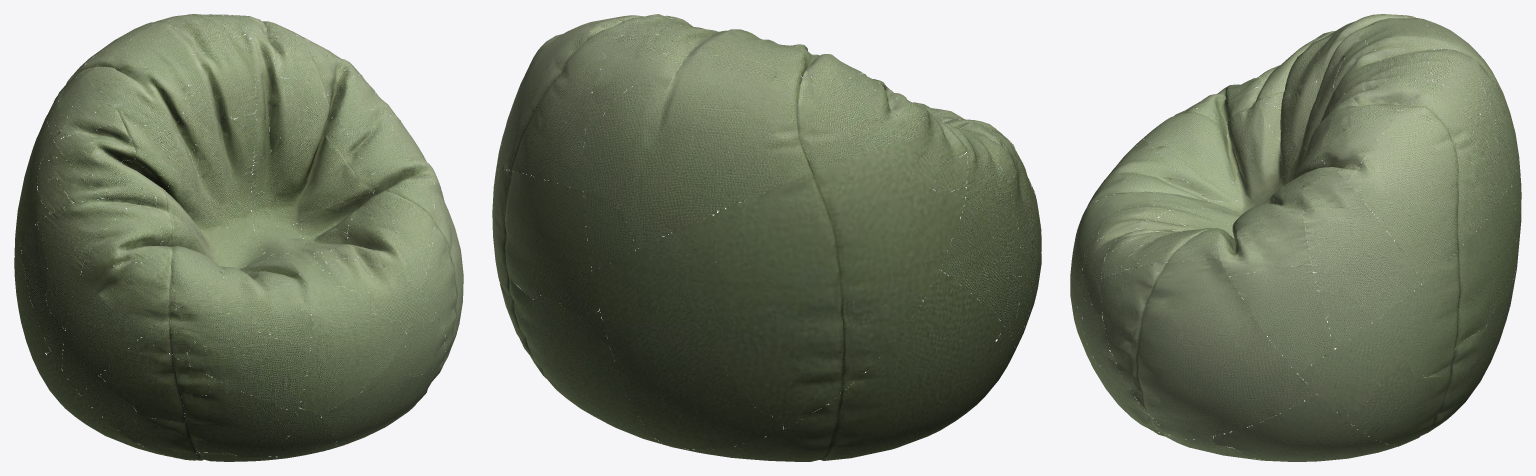
The model's file is beanbag.glb.
3 renders of one model, left to right at view 1: azimuth 30°, elevation 25°; view 2: azimuth 150°, elevation 25°; view 3: azimuth 270°, elevation 25°, orthographic. The views are drawn at different scales.
Visible parts, largest first — view 1: tripo_node_898cca3a-b330-4dd3-bc0e-1b13b1ae4dba; view 2: tripo_node_898cca3a-b330-4dd3-bc0e-1b13b1ae4dba; view 3: tripo_node_898cca3a-b330-4dd3-bc0e-1b13b1ae4dba.
Boxes of the visible parts, bbox=[...] form: tripo_node_898cca3a-b330-4dd3-bc0e-1b13b1ae4dba: bbox=[14, 14, 463, 461]; tripo_node_898cca3a-b330-4dd3-bc0e-1b13b1ae4dba: bbox=[492, 14, 1041, 461]; tripo_node_898cca3a-b330-4dd3-bc0e-1b13b1ae4dba: bbox=[1070, 14, 1521, 461].
Size of the model in its own units: 0.9806 by 0.8028 by 0.9346.
1 material, 1 textured.
